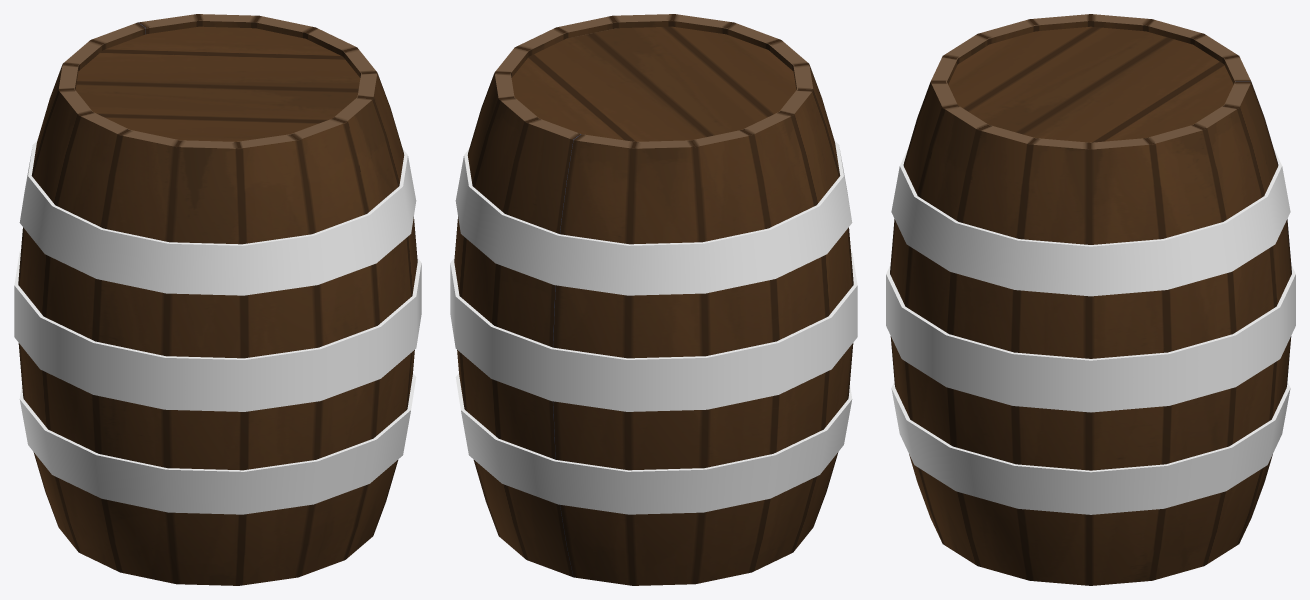
Rendered from Barrel.glb.
3 views of the same model, side by side, from view 1: azimuth 30°, elevation 25°; view 2: azimuth 150°, elevation 25°; view 3: azimuth 270°, elevation 25° (orthographic).
Visible parts, largest first — view 1: Barrel_Body, Barrel_Bands, Barrel_Lid; view 2: Barrel_Body, Barrel_Bands, Barrel_Lid; view 3: Barrel_Body, Barrel_Bands, Barrel_Lid.
Part boxes in pixels (x1=…): Barrel_Body: x1=18, y1=14, x2=417, y2=585; Barrel_Bands: x1=14, y1=141, x2=421, y2=514; Barrel_Lid: x1=75, y1=26, x2=360, y2=141; Barrel_Body: x1=454, y1=14, x2=853, y2=585; Barrel_Bands: x1=450, y1=141, x2=857, y2=514; Barrel_Lid: x1=511, y1=26, x2=796, y2=141; Barrel_Body: x1=890, y1=14, x2=1291, y2=585; Barrel_Bands: x1=886, y1=148, x2=1295, y2=514; Barrel_Lid: x1=948, y1=26, x2=1233, y2=142.
Size of the model in its own units: 1.28 by 1.5 by 1.28.
Materials: 2 (1 with a texture image).
